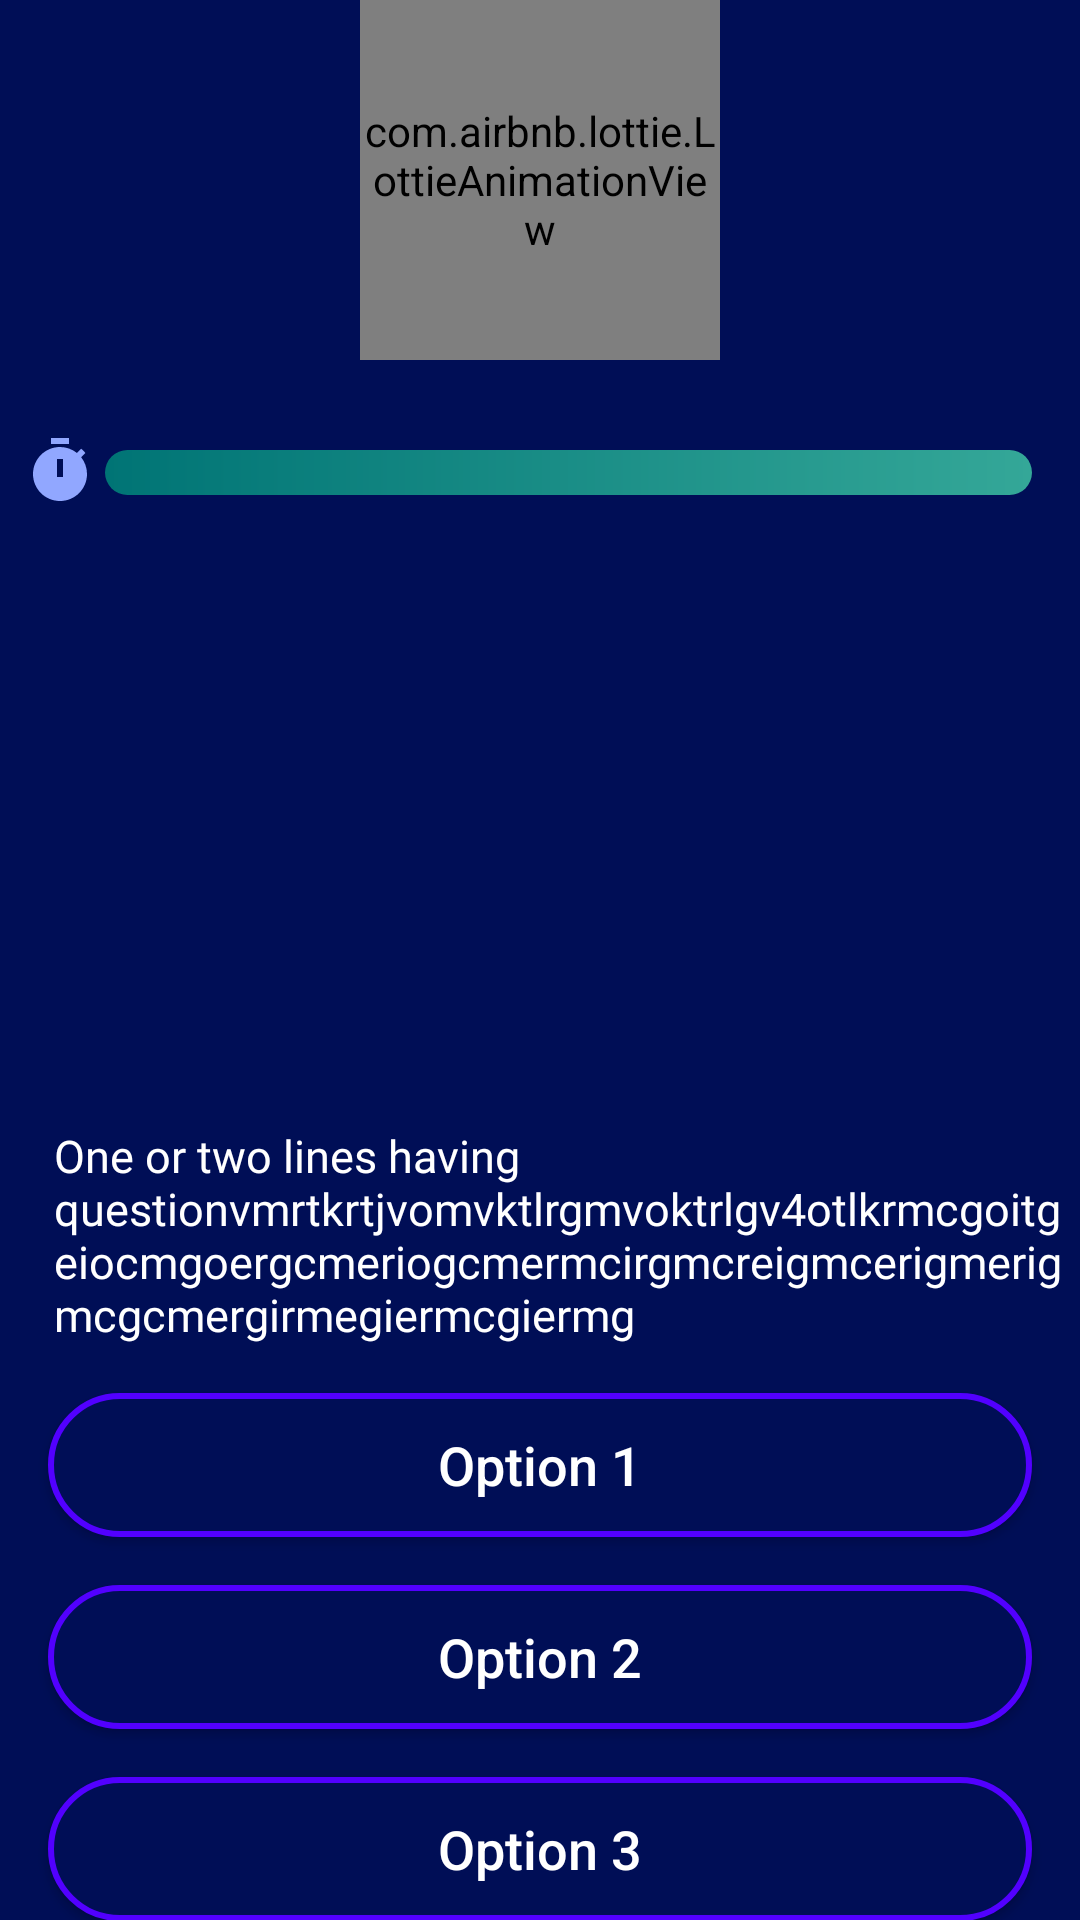

Icon bounding boxes for this 1080*1920 phone screenshot, format [left=x1, top=y1, right=x2, bottom=y2]:
timer: [left=33, top=438, right=87, bottom=501]
